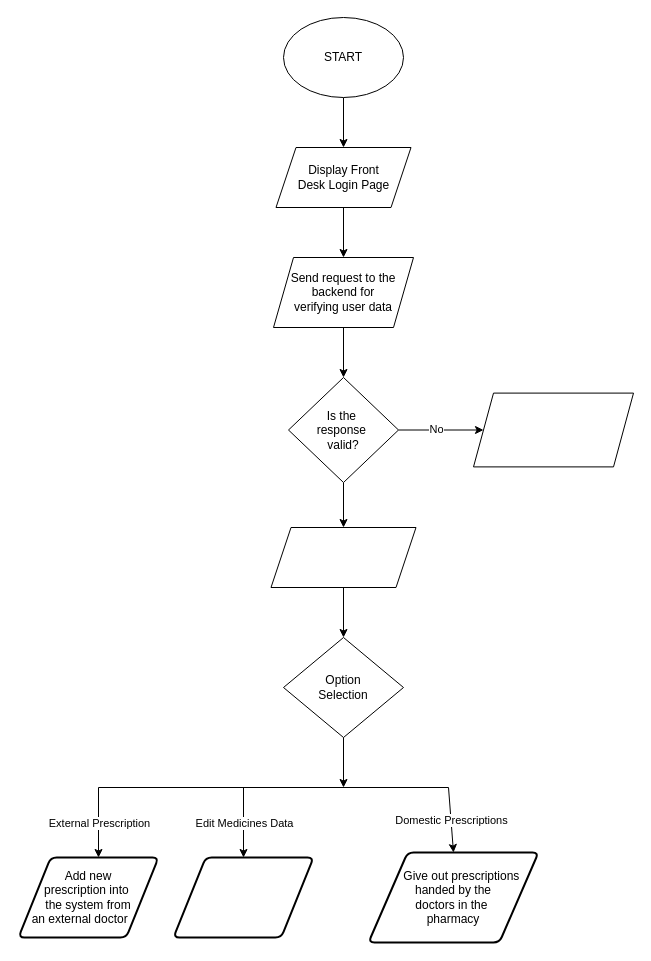
This 651x961 diagram has some shape labels left out. The shapes that lost their labels are listed below. From the top down, each one's box as (x1, y1, x2, y2) in pixels, then its label:
(472, 392, 634, 467): Display notification that there is no such user in the database
(270, 526, 416, 588): Display Front Desk Homepage
(172, 856, 314, 938): View, add, and medicines data
